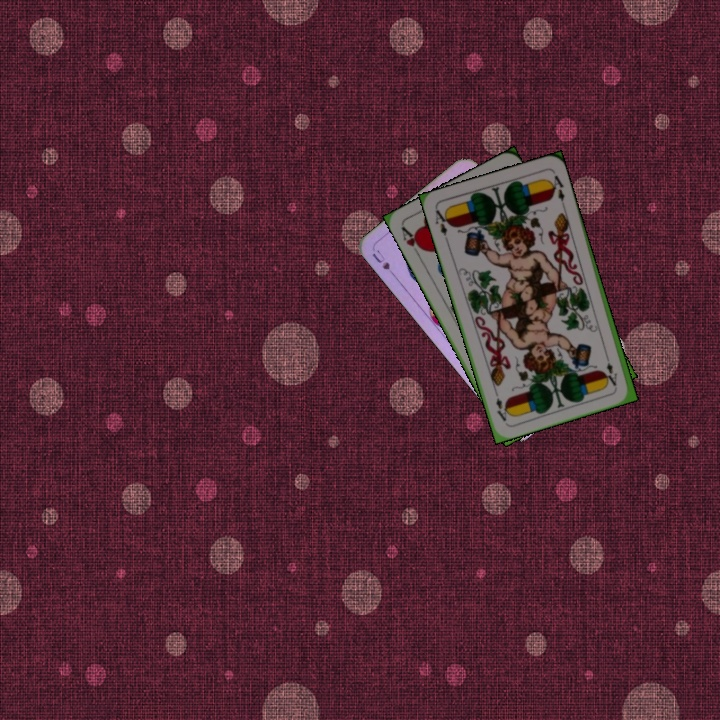EA: (431, 205, 452, 244), (601, 350, 620, 389)
HA: (397, 222, 427, 260)
SU: (368, 246, 400, 281)
